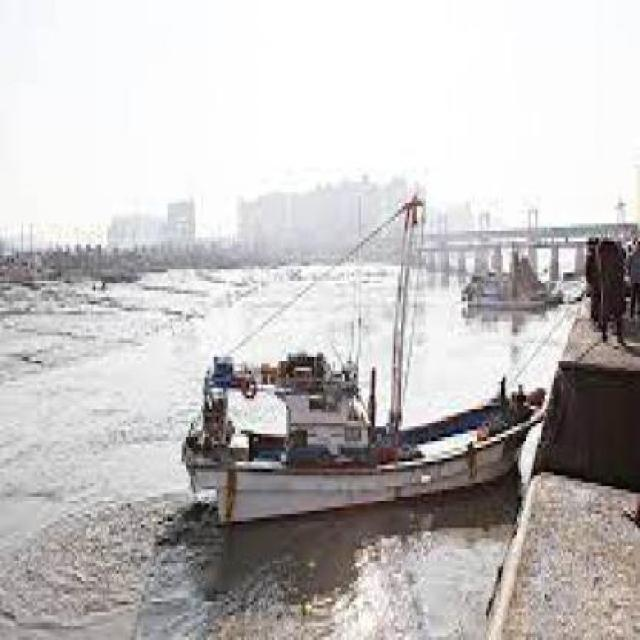fish-b: (176, 333, 554, 526)
